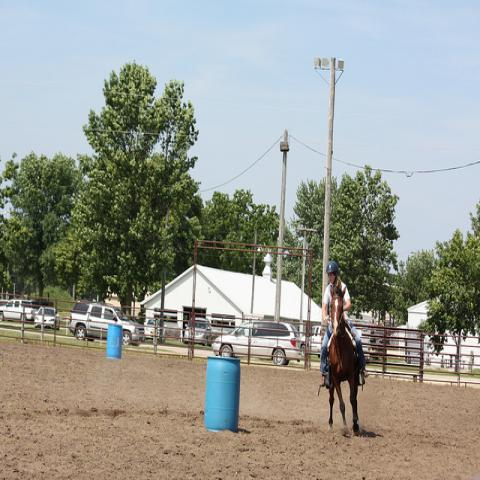car: (213, 322, 303, 366), (68, 303, 146, 347), (184, 318, 212, 347), (0, 299, 34, 322), (300, 326, 322, 357), (34, 306, 61, 330), (142, 320, 167, 342)
truck: (0, 299, 41, 321)
